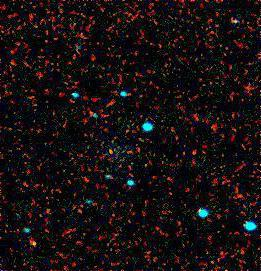star: (19, 227, 49, 257)
